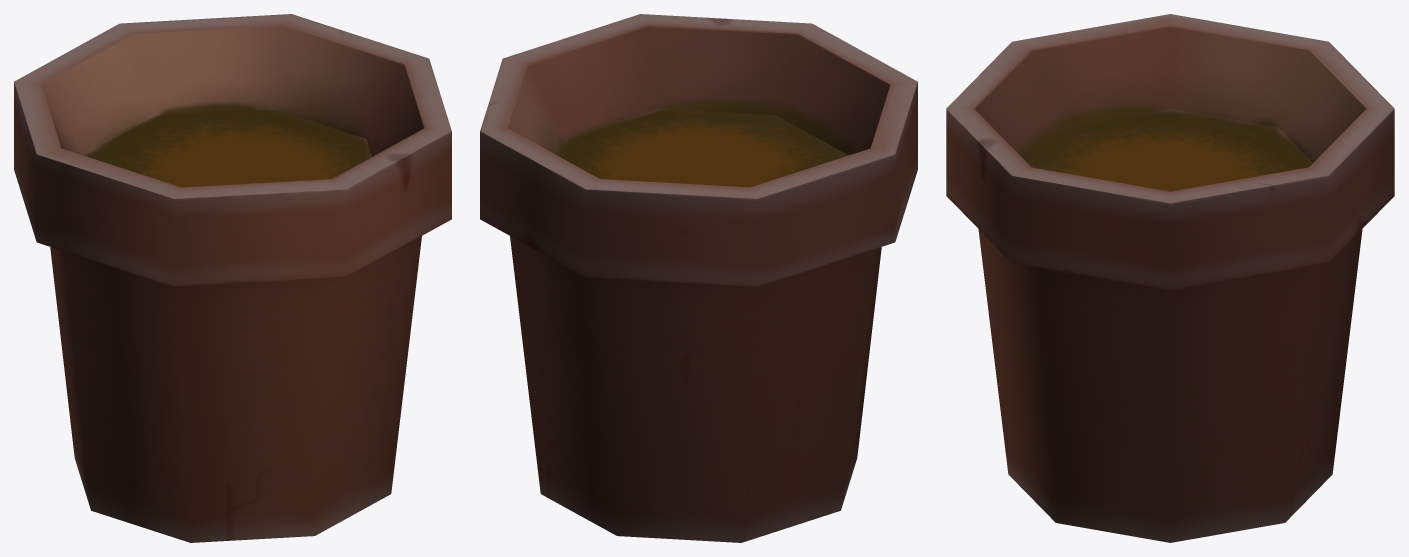
Rendered from SM_pot (1).fbx.
3 views of the same model, side by side, from view 1: azimuth 30°, elevation 25°; view 2: azimuth 150°, elevation 25°; view 3: azimuth 270°, elevation 25° (orthographic).
Parts seen in each view (by area): view 1: flowerpot; view 2: flowerpot; view 3: flowerpot.
Boxes of the visible parts, bbox=[...] form: flowerpot: bbox=[14, 14, 451, 542]; flowerpot: bbox=[480, 14, 917, 542]; flowerpot: bbox=[946, 14, 1394, 542].
Size of the model in its own units: 28.18 by 25.35 by 28.18.
Materials: 1 (1 with a texture image).
